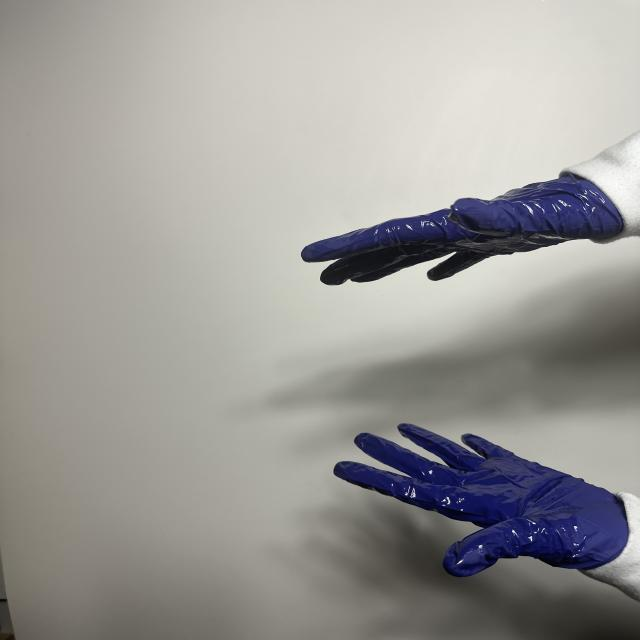gloves_contaminated: (334, 424, 630, 576), (302, 174, 622, 284)
